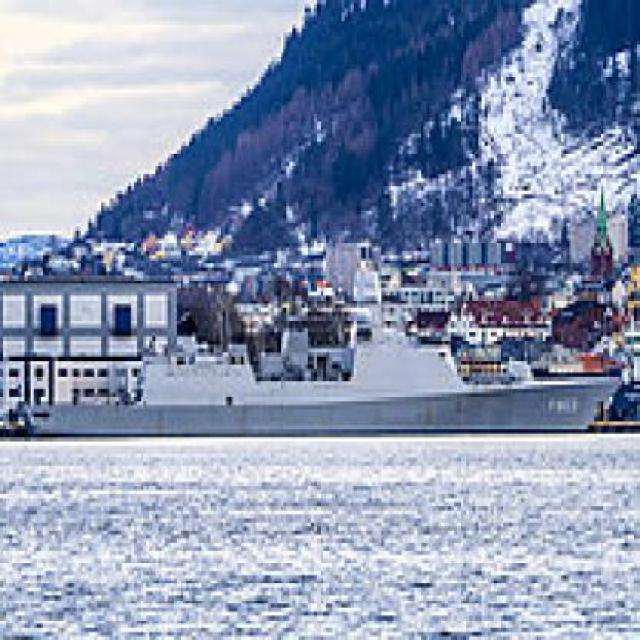warship2: (26, 256, 626, 459)
